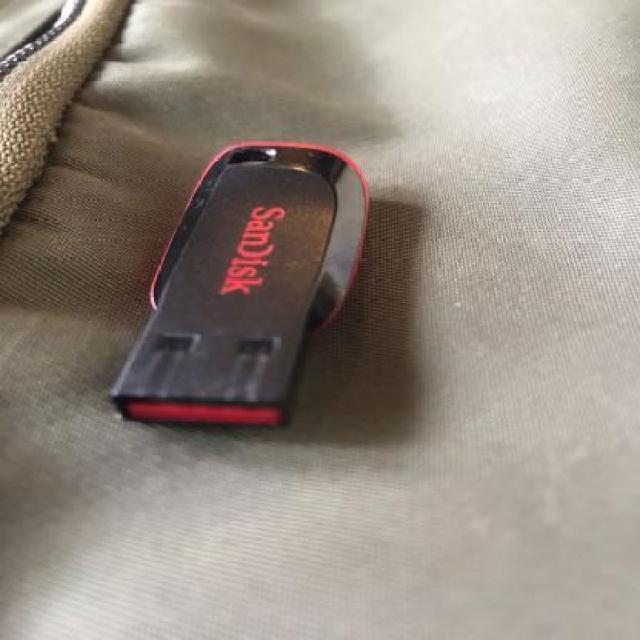Flashdisk: (104, 90, 404, 490)
